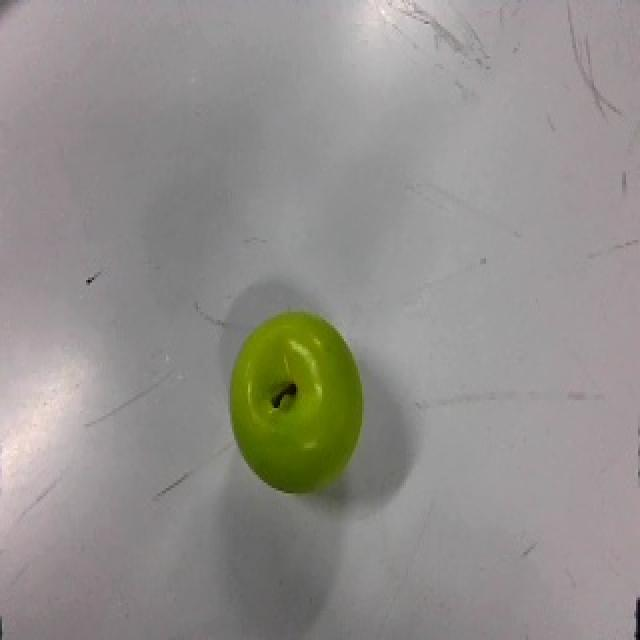apple: (229, 308, 365, 496)
